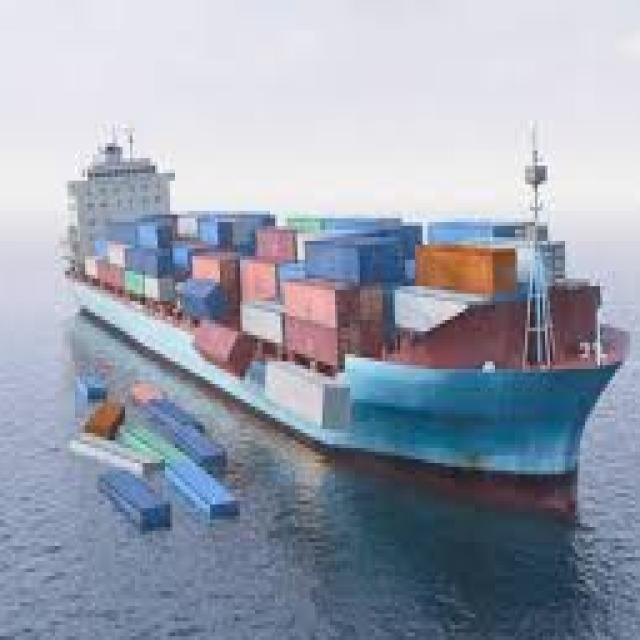cargoship: (62, 118, 624, 504)
